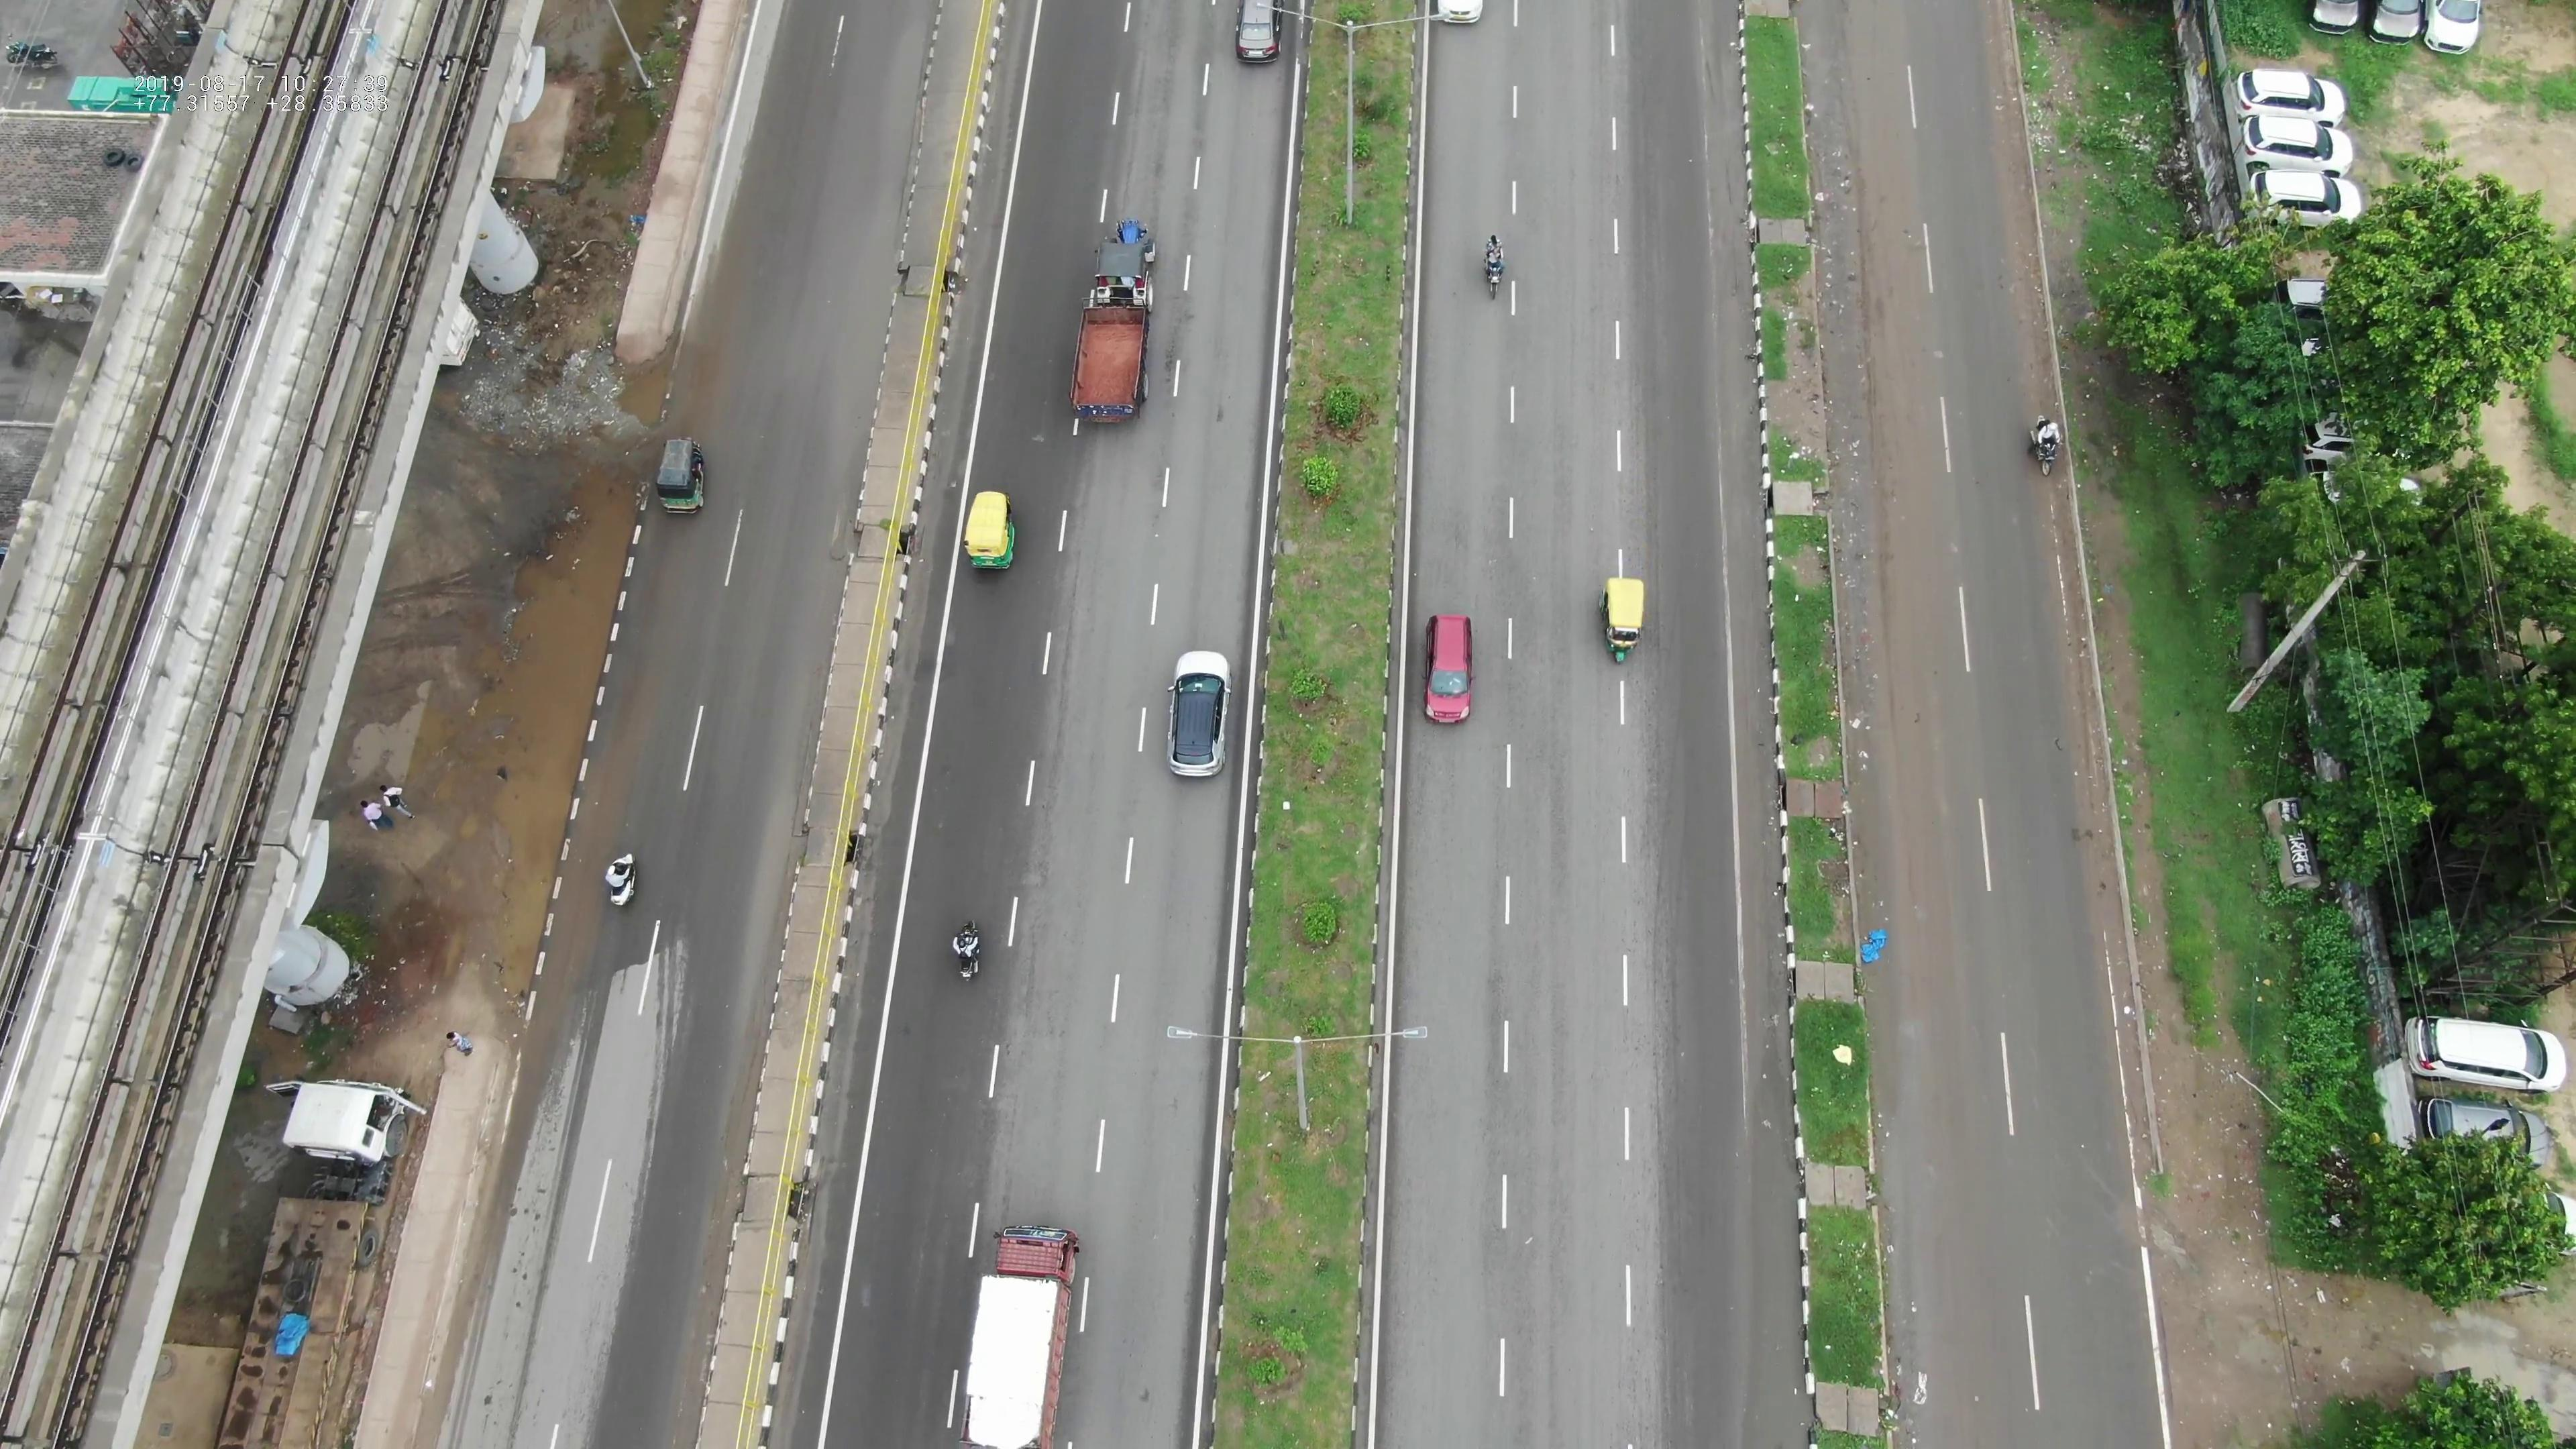Muddy_road: (1836, 163, 1966, 697), (1849, 738, 1948, 1274)
